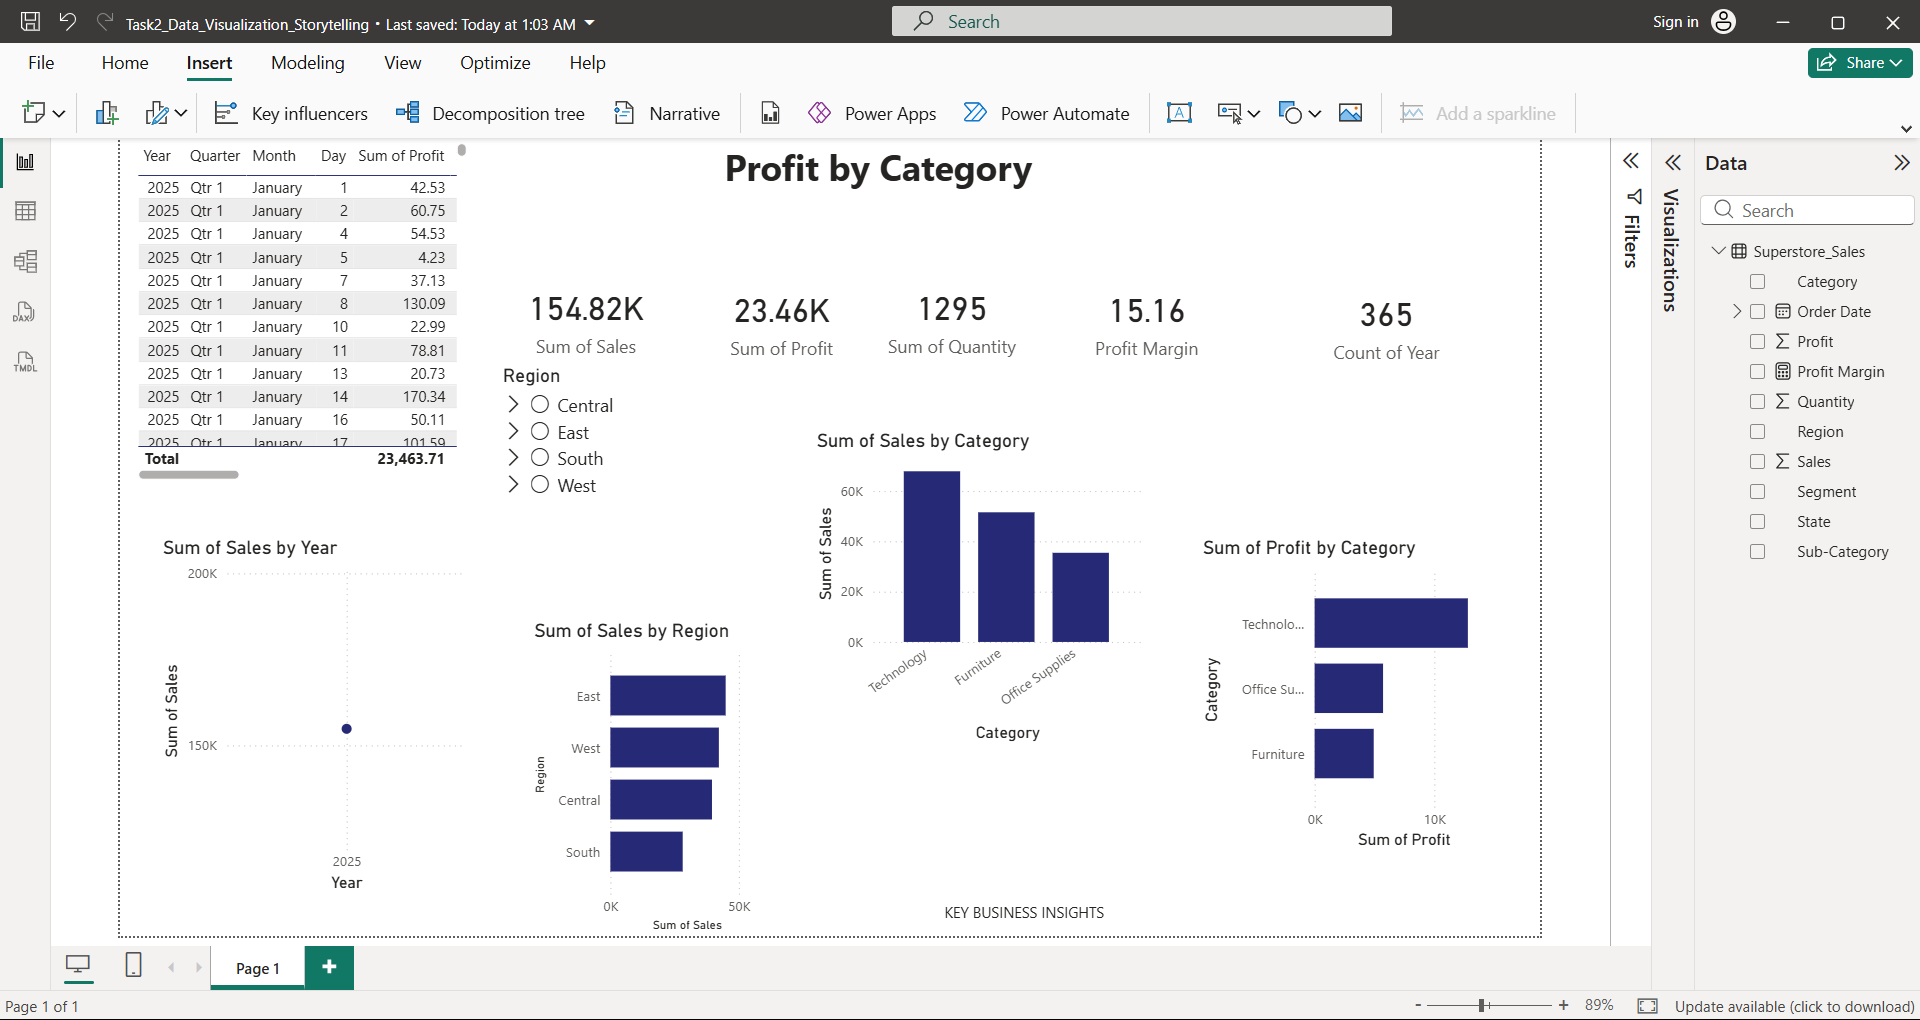

Layout of this report page (visuals, bound fields, positions):
{"tool":"powerbi","page":{"name":"Page 1","canvas":[1280,720],"ordinal":0},"visuals":[{"type":"tableEx","fields":{"Values":["Superstore_Sales.Order Date.Variation.Date Hierarchy.Year","Superstore_Sales.Order Date.Variation.Date Hierarchy.Quarter","Superstore_Sales.Order Date.Variation.Date Hierarchy.Month","Superstore_Sales.Order Date.Variation.Date Hierarchy.Day","Sum(Superstore_Sales.Profit)","Sum(Superstore_Sales.Quantity)","Superstore_Sales.Region","Sum(Superstore_Sales.Sales)","Superstore_Sales.Segment","Superstore_Sales.State","Superstore_Sales.Category","Superstore_Sales.Sub-Category"]},"box":[9.6,0,307.4,312.9],"z":0},{"type":"card","fields":{"Values":["Sum(Superstore_Sales.Sales)"]},"box":[317,122.1,207.2,82.3],"z":1000},{"type":"card","fields":{"Values":["Sum(Superstore_Sales.Profit)"]},"box":[480.3,126.2,233.3,78.2],"z":2000},{"type":"card","fields":{"Values":["Sum(Superstore_Sales.Quantity)"]},"box":[651.8,123.5,197.6,78.2],"z":3000},{"type":"card","fields":{"Values":["CountNonNull(Superstore_Sales.Order Date.Variation.Date Hierarchy.Year)"]},"box":[1004.5,131.7,275.8,72.7],"z":4000},{"type":"card","fields":{"Values":["Superstore_Sales.Profit Margin"]},"box":[824.7,126.2,201.7,78.2],"z":5000},{"type":"lineChart","fields":{"Category":["Superstore_Sales.Order Date.Variation.Date Hierarchy.Year","Superstore_Sales.Order Date.Variation.Date Hierarchy.Quarter","Superstore_Sales.Order Date.Variation.Date Hierarchy.Month","Superstore_Sales.Order Date.Variation.Date Hierarchy.Day"],"Y":["Sum(Superstore_Sales.Sales)"]},"box":[34.3,359.5,282.7,325.2],"z":6000},{"type":"clusteredBarChart","fields":{"Category":["Superstore_Sales.Region"],"Y":["Sum(Superstore_Sales.Sales)"]},"box":[369.1,433.6,227.8,286.8],"z":7000},{"type":"columnChart","fields":{"Category":["Superstore_Sales.Category"],"Y":["Sum(Superstore_Sales.Sales)"]},"box":[623,262.1,303.3,286.8],"z":8000},{"type":"barChart","fields":{"Category":["Superstore_Sales.Category"],"Y":["Sum(Superstore_Sales.Profit)"]},"box":[971.5,359.5,282.7,286.8],"z":9000},{"type":"textbox","box":[421.3,0,524.2,70],"z":10000},{"type":"listSlicer","fields":{"Values":["Superstore_Sales.Region","Superstore_Sales.Category","Superstore_Sales.Segment","Superstore_Sales.Order Date.Variation.Date Hierarchy.Year","Superstore_Sales.Order Date.Variation.Date Hierarchy.Quarter","Superstore_Sales.Order Date.Variation.Date Hierarchy.Month","Superstore_Sales.Order Date.Variation.Date Hierarchy.Day"]},"box":[340.3,204.5,163.3,227.8],"z":11000},{"type":"textbox","box":[639.5,577.7,352.7,142.7],"z":12000}]}

Visuals, with their boxes on the page's 1280x720 design canvas (x1, y1, x2, y2). These are canvas units, not pixel positions in the 1920x1020 screenshot, which may show the page scaled, cropped or inside an application window:
tableEx - Superstore_Sales.Order Date.Variation.Date Hierarchy.Year x Superstore_Sales.Order Date.Variation.Date Hierarchy.Quarter: <box>10,0,317,313</box>
card - Sum(Superstore_Sales.Sales): <box>317,122,524,204</box>
card - Sum(Superstore_Sales.Profit): <box>480,126,714,204</box>
card - Sum(Superstore_Sales.Quantity): <box>652,124,849,202</box>
card - CountNonNull(Superstore_Sales.Order Date.Variation.Date Hierarchy.Year): <box>1004,132,1280,204</box>
card - Superstore_Sales.Profit Margin: <box>825,126,1026,204</box>
lineChart - Superstore_Sales.Order Date.Variation.Date Hierarchy.Year x Superstore_Sales.Order Date.Variation.Date Hierarchy.Quarter: <box>34,360,317,685</box>
clusteredBarChart - Superstore_Sales.Region x Sum(Superstore_Sales.Sales): <box>369,434,597,720</box>
columnChart - Superstore_Sales.Category x Sum(Superstore_Sales.Sales): <box>623,262,926,549</box>
barChart - Superstore_Sales.Category x Sum(Superstore_Sales.Profit): <box>972,360,1254,646</box>
textbox: <box>421,0,946,70</box>
listSlicer - Superstore_Sales.Region x Superstore_Sales.Category: <box>340,204,504,432</box>
textbox: <box>640,578,992,720</box>
